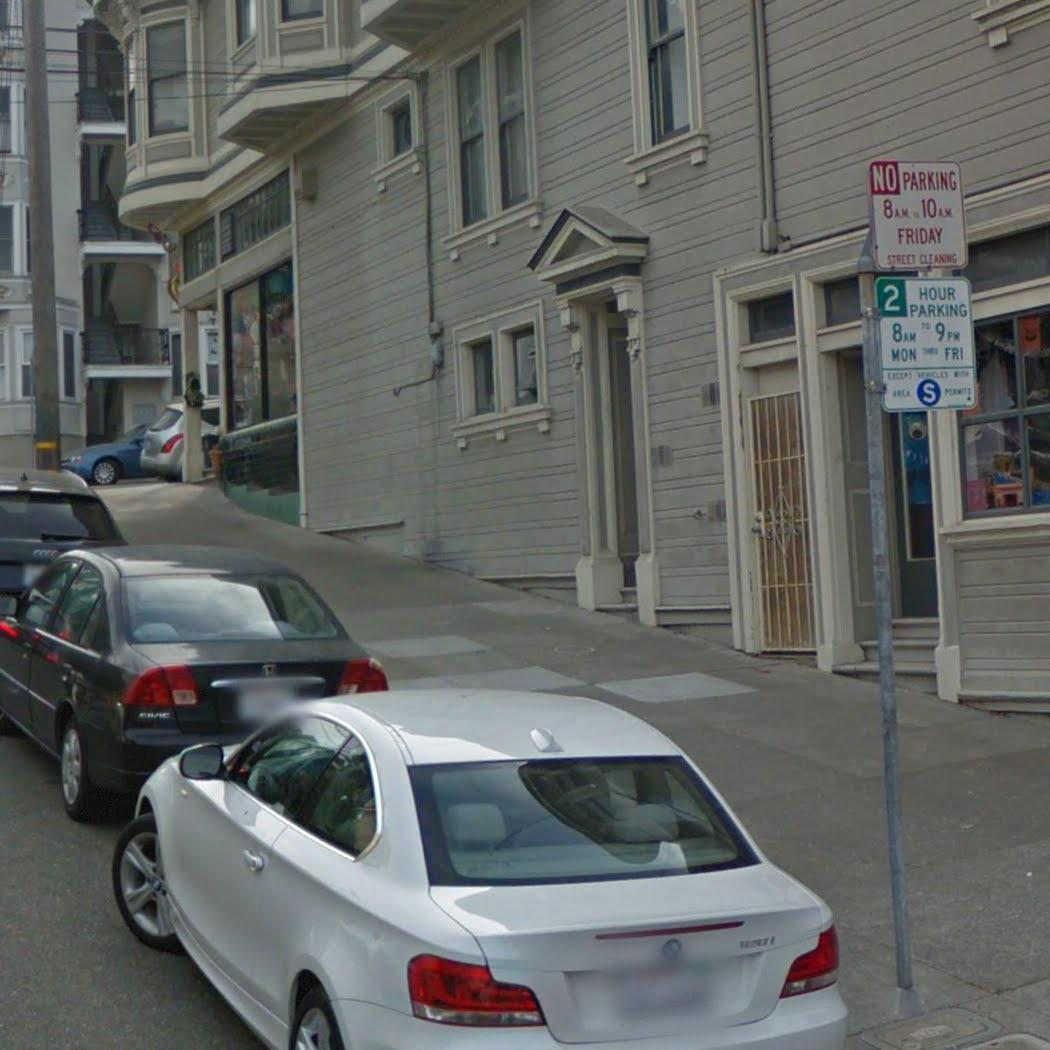2 Hour Parking: (867, 270, 981, 411)
No Parking: (867, 155, 970, 276)
